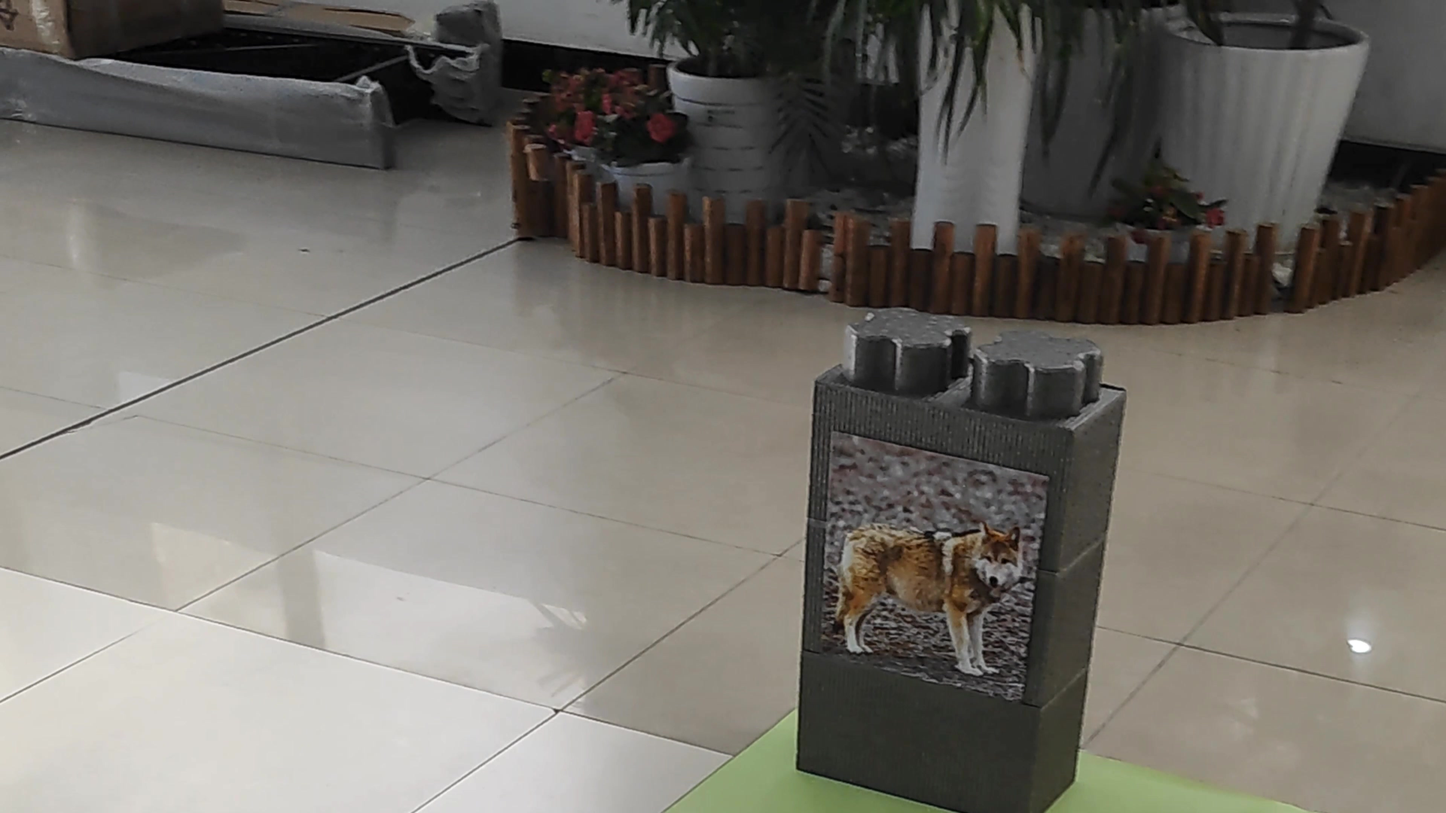wolf: (830, 442, 1035, 693)
